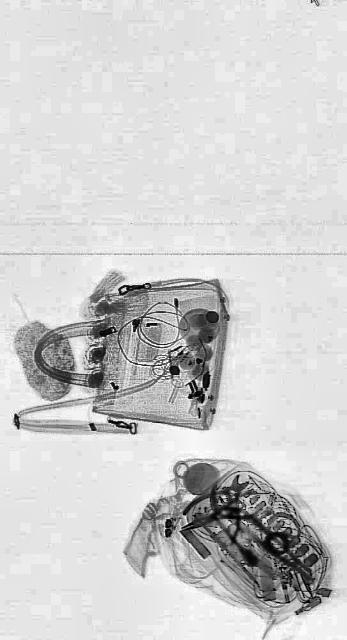Pliers: (181, 442, 259, 572), (179, 486, 259, 544)
